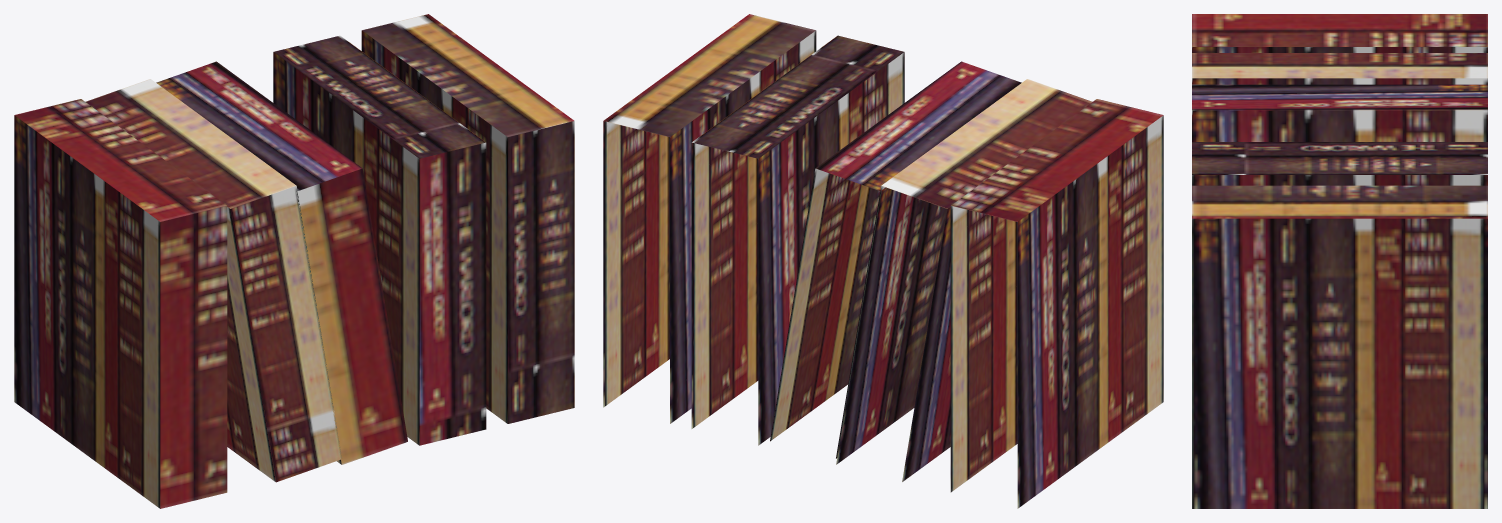
The model's file is BookC.FBX.
3 renders of one model, left to right at view 1: azimuth 30°, elevation 25°; view 2: azimuth 150°, elevation 25°; view 3: azimuth 270°, elevation 25°, orthographic.
Visible parts, largest first — view 1: BookC; view 2: BookC; view 3: BookC.
Boxes of the visible parts, left/top/right/bottom form: BookC: left=14, top=14, right=574, bottom=508; BookC: left=603, top=14, right=1163, bottom=508; BookC: left=1192, top=14, right=1487, bottom=508.
Bounding box in the file's own units: 68.52 × 46.29 × 41.84.
